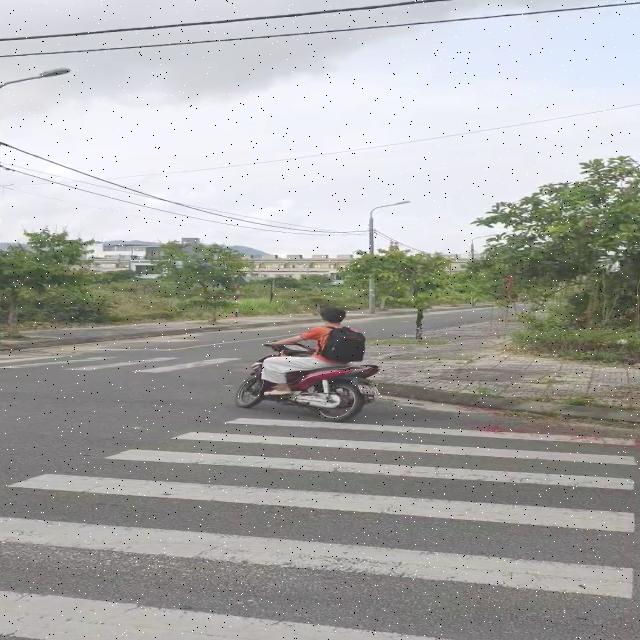no_helmet: (317, 304, 350, 329)
